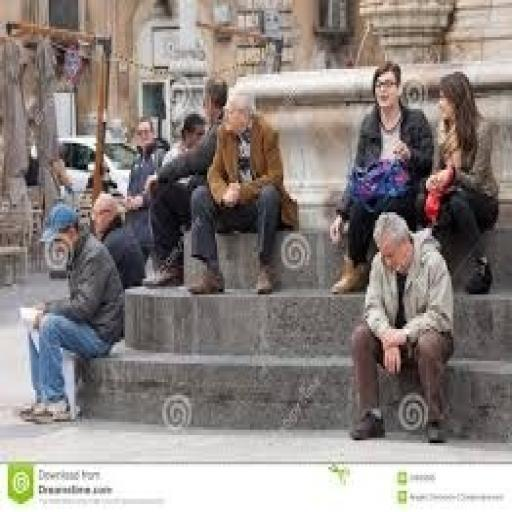sitting: (326, 58, 434, 297), (346, 210, 455, 443), (16, 199, 125, 427), (186, 85, 287, 297), (140, 74, 228, 289), (420, 69, 500, 294), (119, 114, 170, 260)
